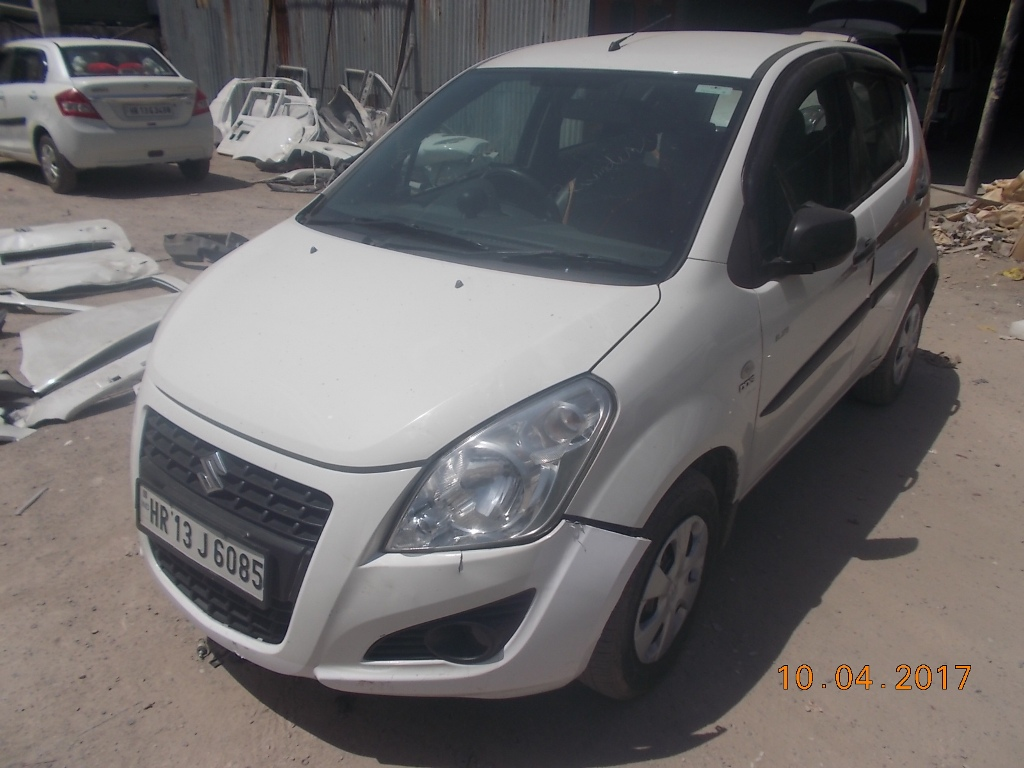Dislocation: (562, 496, 642, 554)
